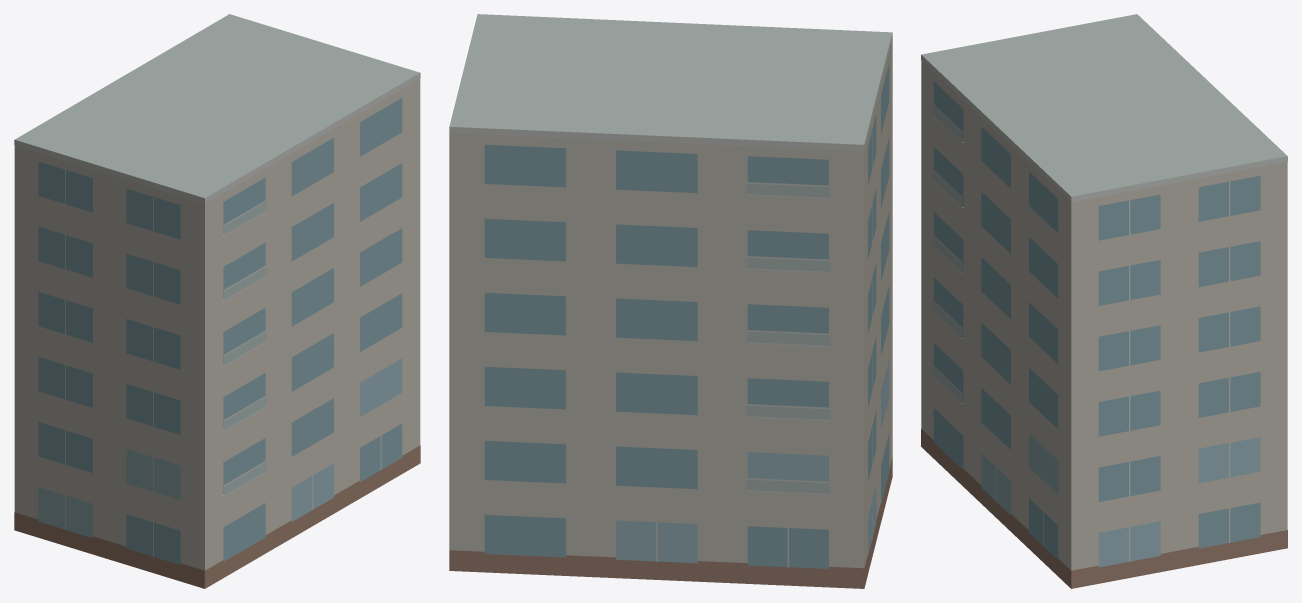
File: survey-upis-32988156.glb
3 views of the same model, side by side, from view 1: azimuth 30°, elevation 25°; view 2: azimuth 150°, elevation 25°; view 3: azimuth 270°, elevation 25° (orthographic). The views are drawn at different scales.
Visible parts, largest first — view 1: survey-upis-32988156.tmp; view 2: survey-upis-32988156.tmp; view 3: survey-upis-32988156.tmp.
Part boxes in pixels (x1,y1,x2,y2): survey-upis-32988156.tmp: [14, 14, 420, 588]; survey-upis-32988156.tmp: [449, 14, 892, 588]; survey-upis-32988156.tmp: [921, 14, 1287, 588].
Bounding box in the file's own units: 16.8 × 16.8 × 14.24.
